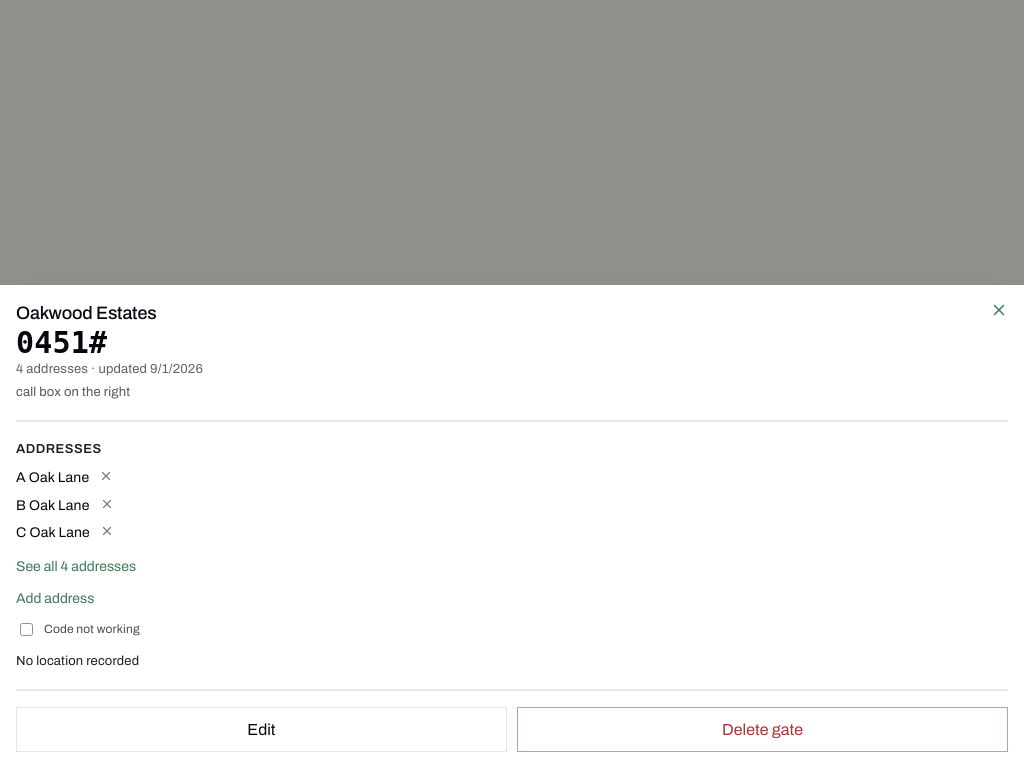
GateDetailSheet › shows only the first 3 addresses with a "See all" link when there are more
expect the list item "A Oak Lane" is shown: met, box left=16, top=465, right=115, bottom=493
expect the text "D Oak Lane" is not shown: met
Step 1. Click the button "See all 4 addresses" → (76, 567), box left=16, top=555, right=136, bottom=578
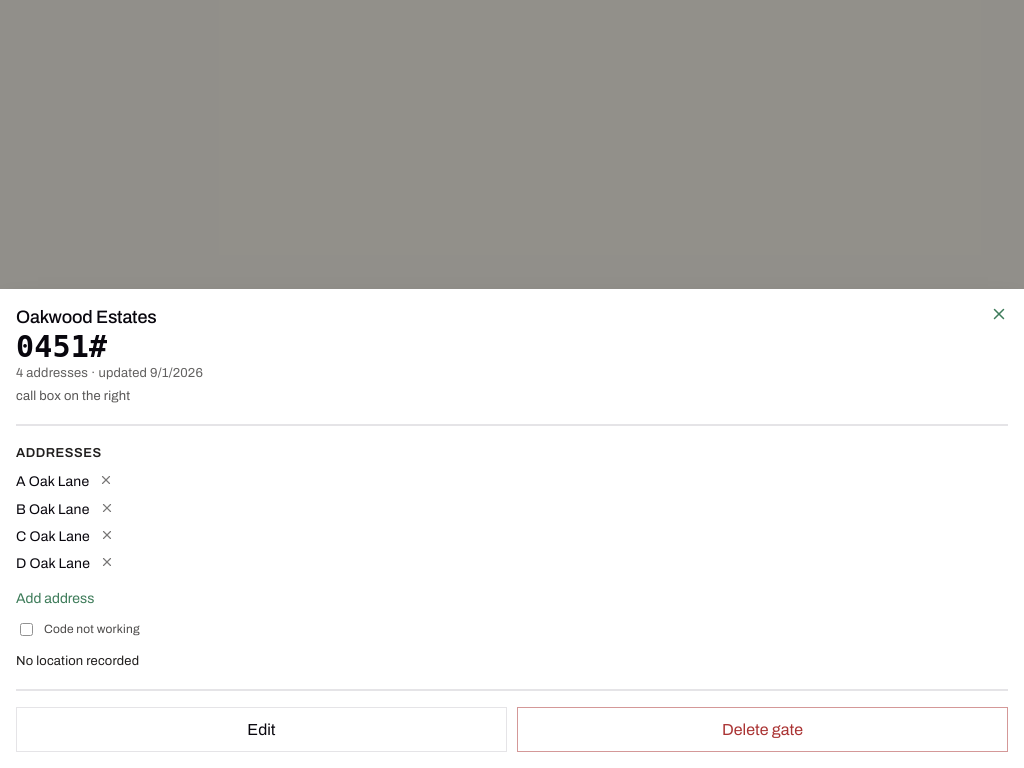
expect the list item "D Oak Lane" is shown: met, box left=16, top=551, right=116, bottom=578
